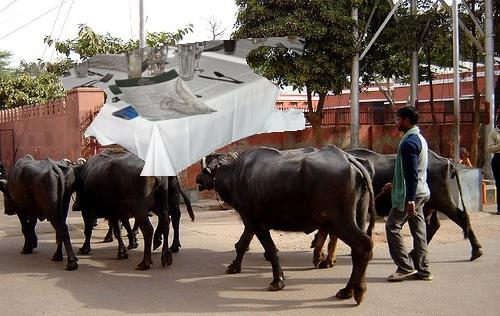tampered: (62, 37, 305, 176)
